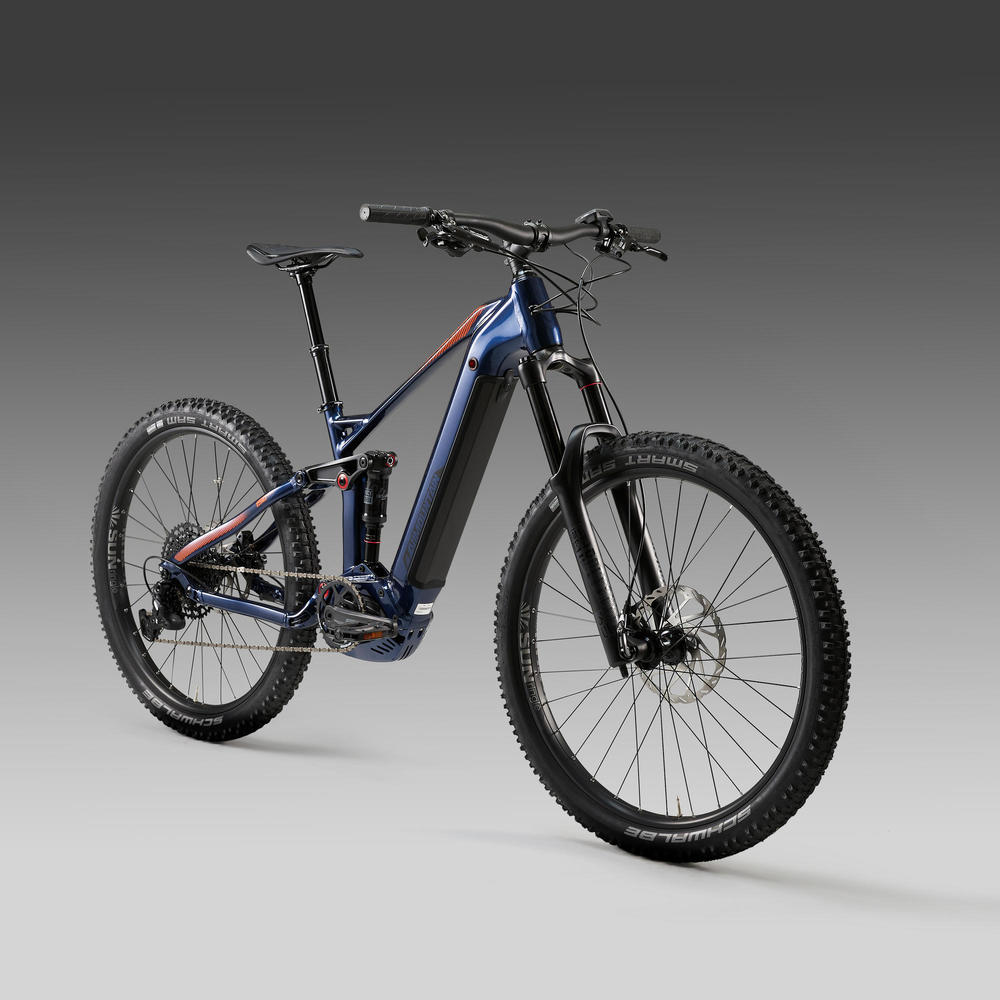MountainBike: (82, 180, 856, 859)
